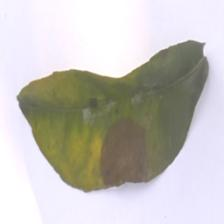black spot: (88, 111, 160, 188)
